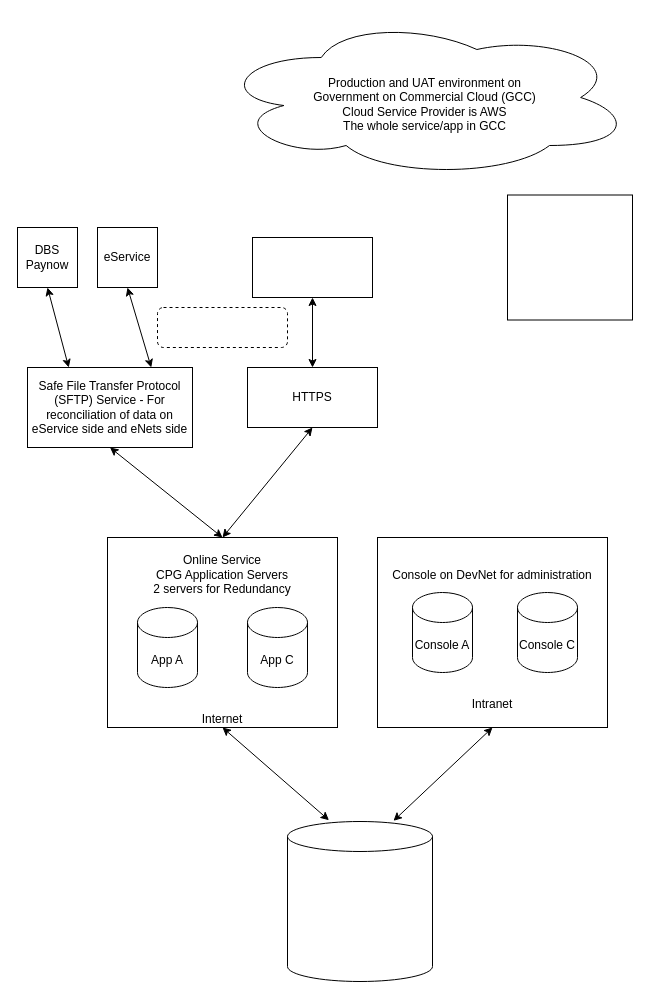
The diagram is 650 pixels wide and 999 high, and some of its shapes have lost their labels. The centre of each missing label's shape, as x and y in pixels:
"Data transfer encrypted via Java SLIFT" goes at (222,327).
"eNETS" goes at (312,267).
"Oracle DB running on JBoss application server" goes at (359,901).
"Version Control using SVN SIT environment on DevNet All OS using RedHat" goes at (569,257).
